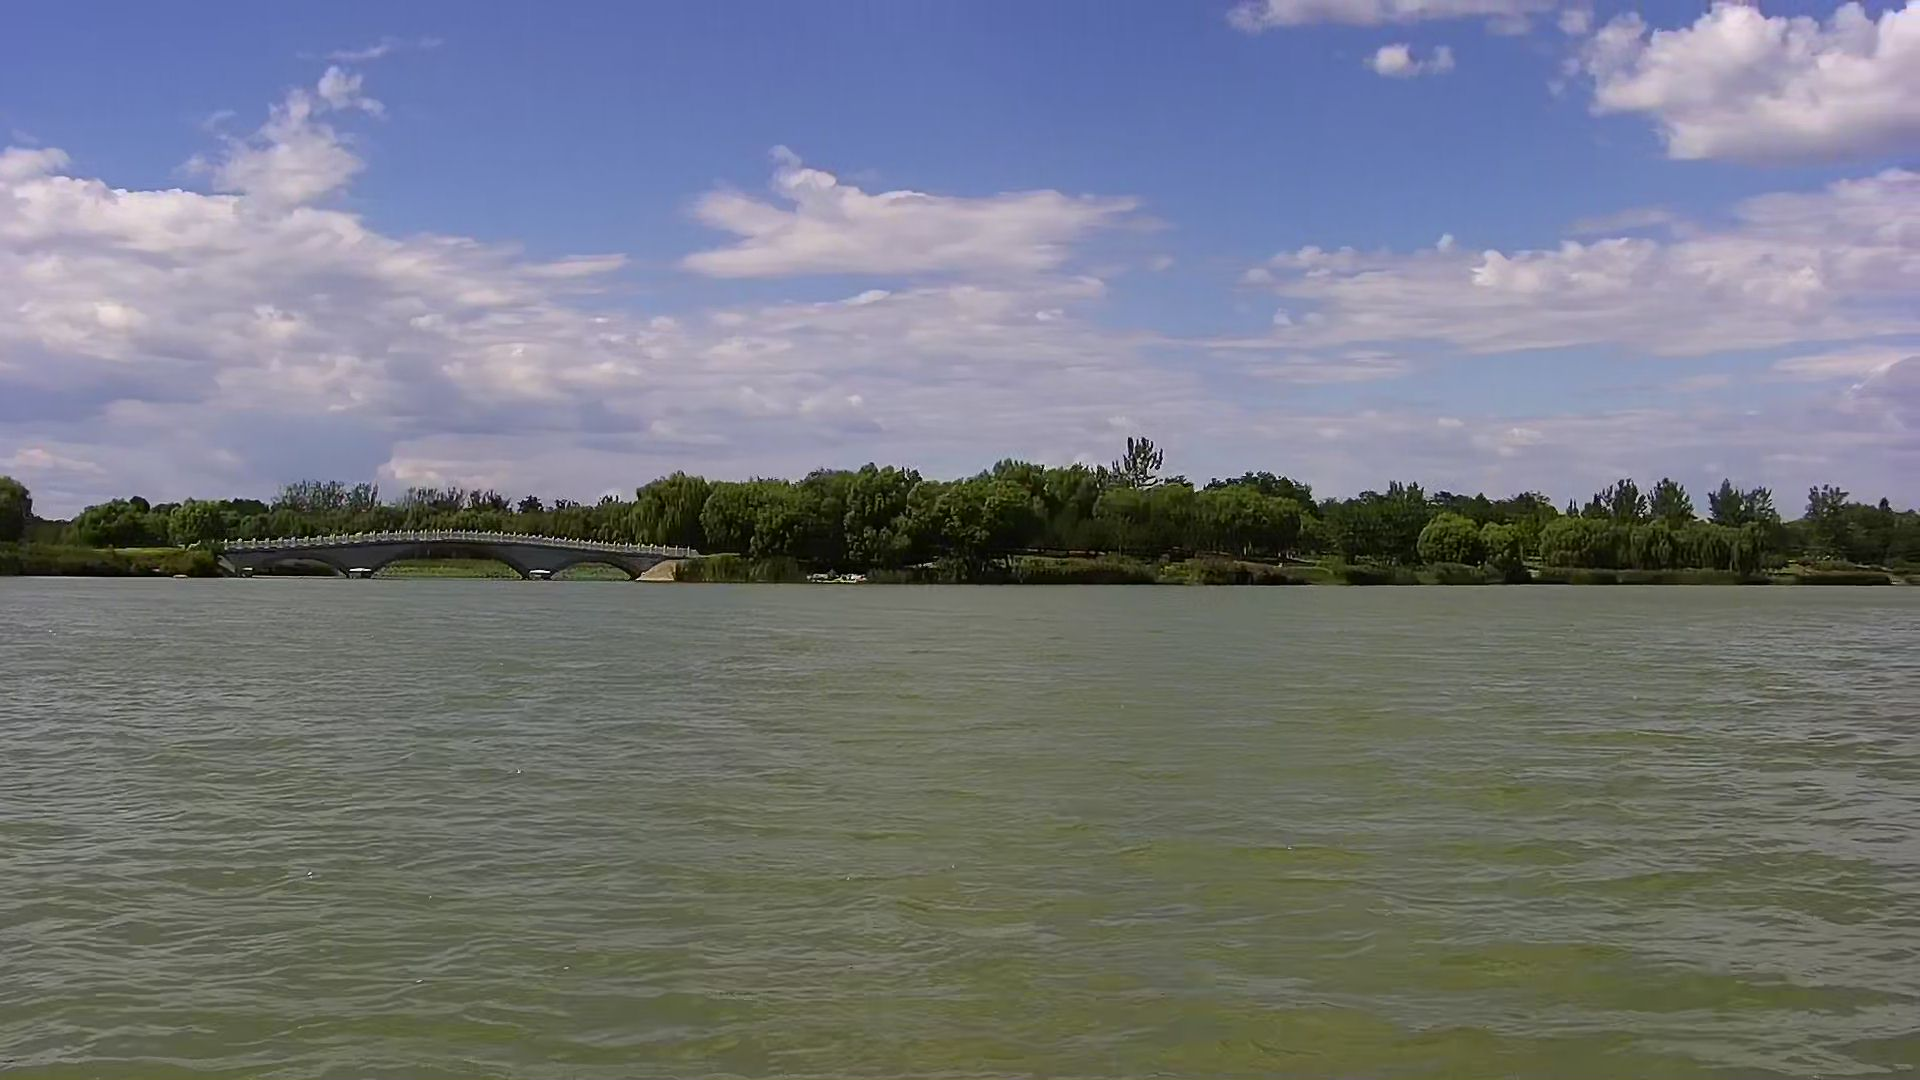bridge: (193, 527, 716, 582)
